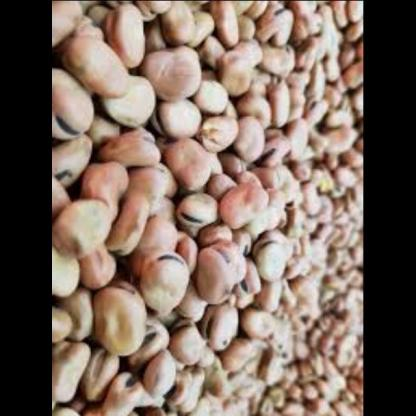beans: (53, 0, 364, 416)
